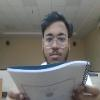notebook: (6, 59, 91, 99)
